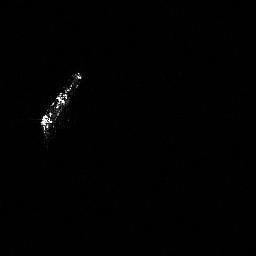ship: (36, 69, 84, 140)
